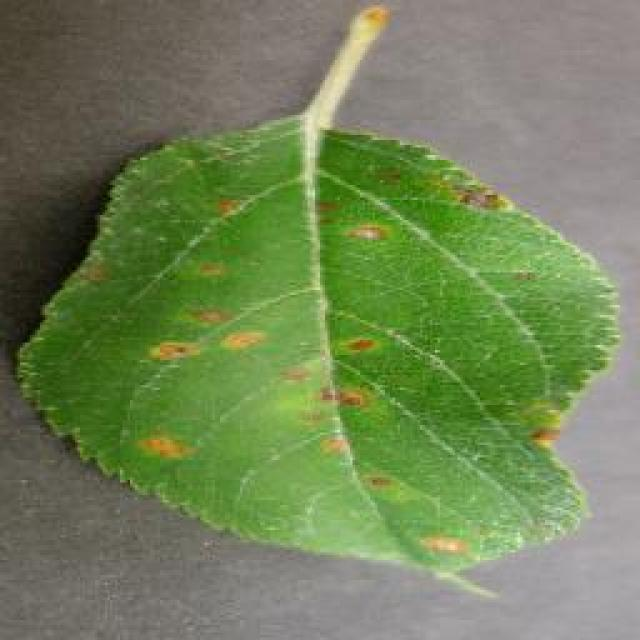apple healthy: (12, 0, 622, 595)
